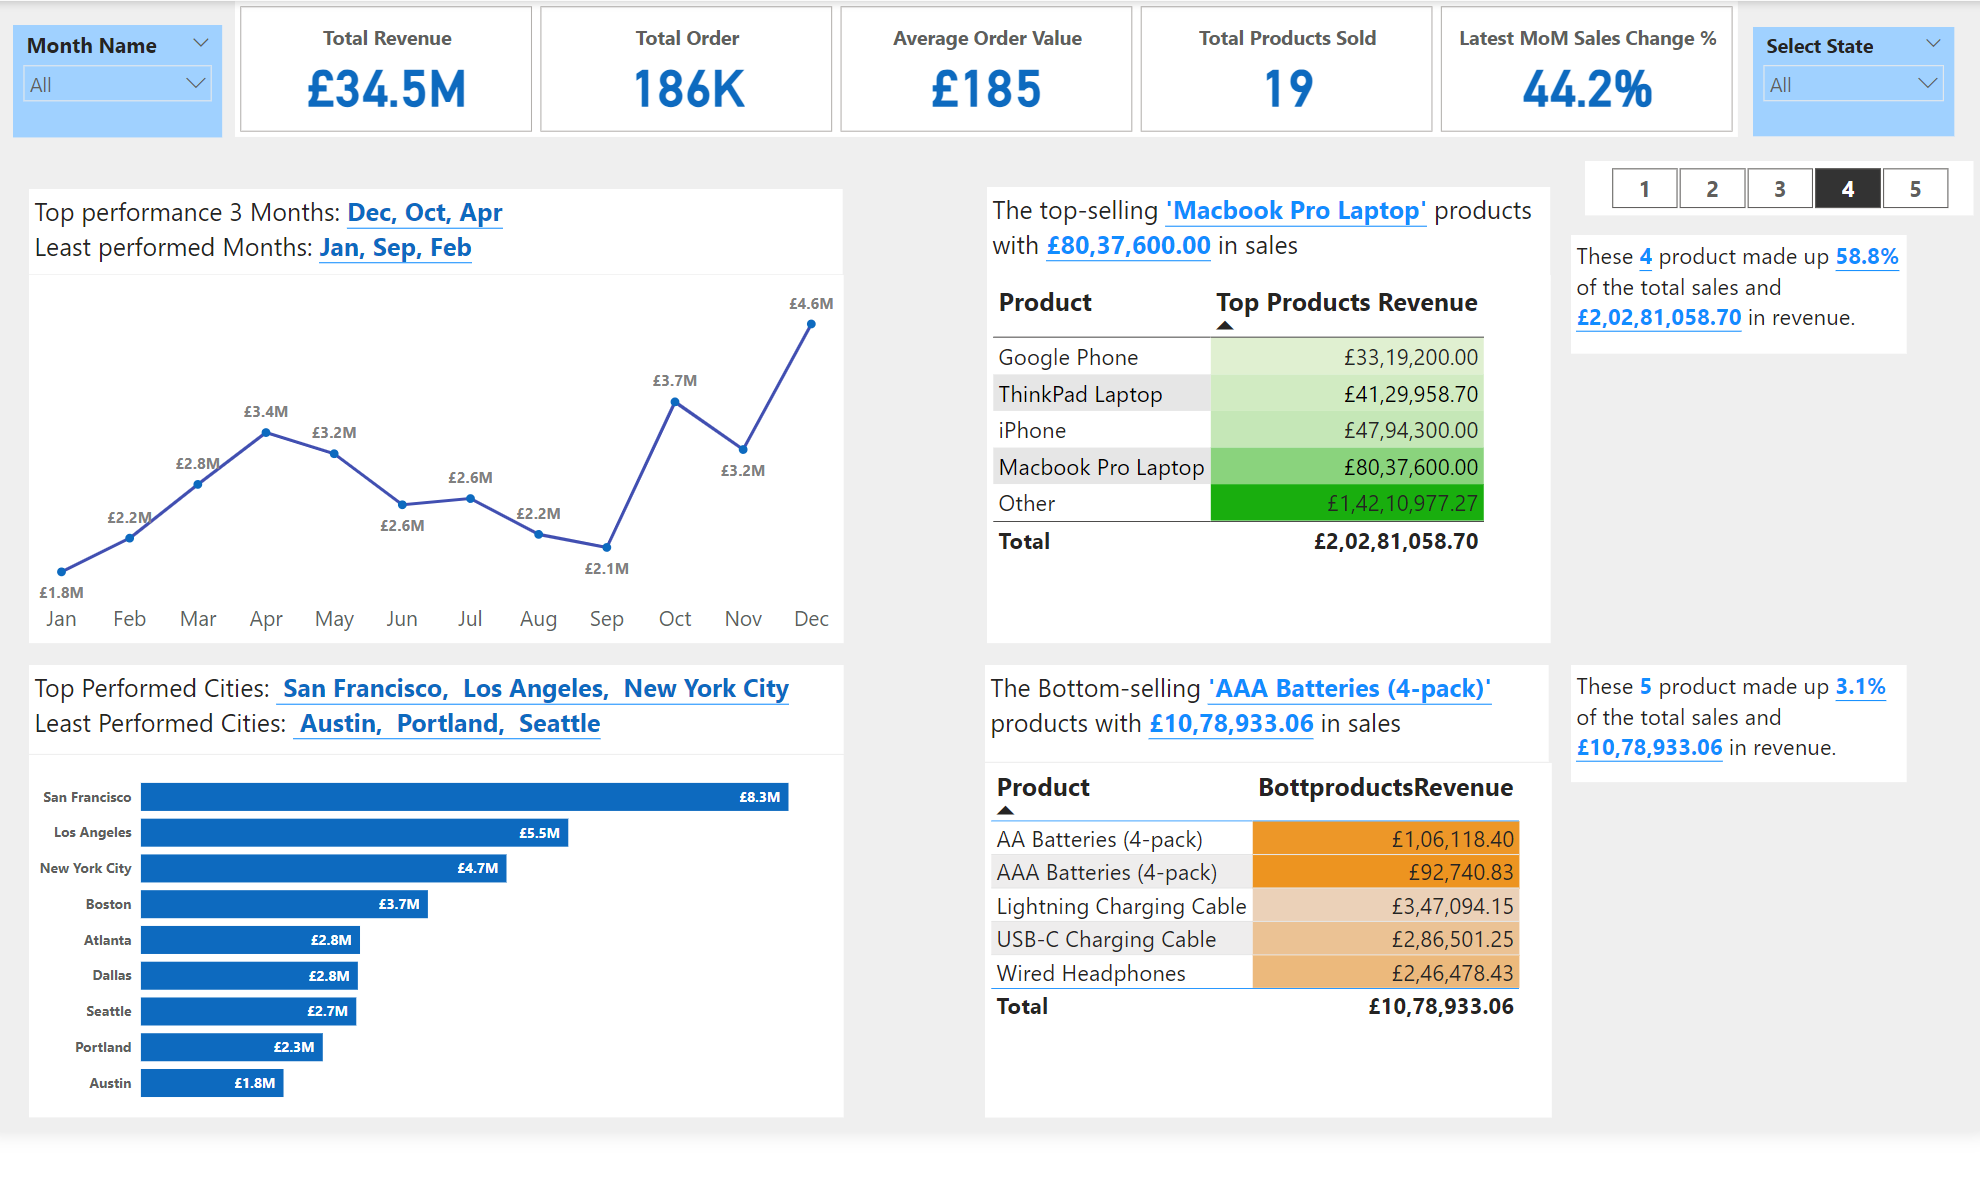

The dashboard page shown, as its layout file describes it:
{"tool":"powerbi","page":{"name":"Sales_Trend","canvas":[1920,1080],"ordinal":0},"visuals":[{"type":"cardVisual","fields":{"Data":["_Measure.Total Revenue","_Measure.Total Order","_Measure.Average Order Value","_Measure.Total Products Sold","_Measure.Latest MoM Sales Change %"]},"box":[241.9,0,1437.2,130.2],"z":0},{"type":"lineChart","fields":{"Category":["Calendar.Month Name"],"Y":["_Measure.Total Revenue"]},"box":[43.3,261.2,779.1,352.2],"z":1000},{"type":"textbox","box":[43.8,179.7,778.1,81.2],"z":2000},{"type":"clusteredBarChart","fields":{"Category":["Append1.City"],"Y":["_Measure.Total Revenue"]},"box":[43.3,720.9,779.1,346.3],"z":3000},{"type":"textbox","box":[43.3,635.8,779.1,85.1],"z":4000},{"type":"tableEx","fields":{"Values":["Pseudo Prod Table.Product","_Measure.Top Products Revenue"]},"box":[959.7,261.2,538.8,352.2],"z":5000},{"type":"slicer","fields":{"Values":["Top N Selection.Value"]},"box":[1531.3,153.7,371.6,52.2],"z":6000},{"type":"textbox","box":[1517.9,223.9,320.9,113.4],"z":7000},{"type":"textbox","box":[959.6,178.7,538.3,89.4],"z":8000},{"type":"tableEx","fields":{"Values":["Append1.Product","Append1.BottproductsRevenue"]},"box":[958.2,728.4,541.8,338.8],"z":9000},{"type":"textbox","box":[1517.9,635.8,320.9,111.9],"z":9001},{"type":"textbox","box":[958.2,635.8,538.8,92.5],"z":9002},{"type":"slicer","fields":{"Values":["Append1.State"]},"box":[1692.5,25.4,192.5,104.5],"z":9003},{"type":"slicer","fields":{"Values":["Calendar.Month Name"]},"box":[28.4,22.4,200,107.5],"z":9004}]}

Visuals, with their boxes on the page's 1920x1080 design canvas (x1, y1, x2, y2). These are canvas units, not pixel positions in the 1980x1182 screenshot, which may show the page scaled, cropped or inside an application window:
cardVisual - _Measure.Total Revenue x _Measure.Total Order: (left=242, top=0, right=1679, bottom=130)
lineChart - Calendar.Month Name x _Measure.Total Revenue: (left=43, top=261, right=822, bottom=613)
textbox: (left=44, top=180, right=822, bottom=261)
clusteredBarChart - Append1.City x _Measure.Total Revenue: (left=43, top=721, right=822, bottom=1067)
textbox: (left=43, top=636, right=822, bottom=721)
tableEx - Pseudo Prod Table.Product x _Measure.Top Products Revenue: (left=960, top=261, right=1498, bottom=613)
slicer - Top N Selection.Value: (left=1531, top=154, right=1903, bottom=206)
textbox: (left=1518, top=224, right=1839, bottom=337)
textbox: (left=960, top=179, right=1498, bottom=268)
tableEx - Append1.Product x Append1.BottproductsRevenue: (left=958, top=728, right=1500, bottom=1067)
textbox: (left=1518, top=636, right=1839, bottom=748)
textbox: (left=958, top=636, right=1497, bottom=728)
slicer - Append1.State: (left=1692, top=25, right=1885, bottom=130)
slicer - Calendar.Month Name: (left=28, top=22, right=228, bottom=130)
